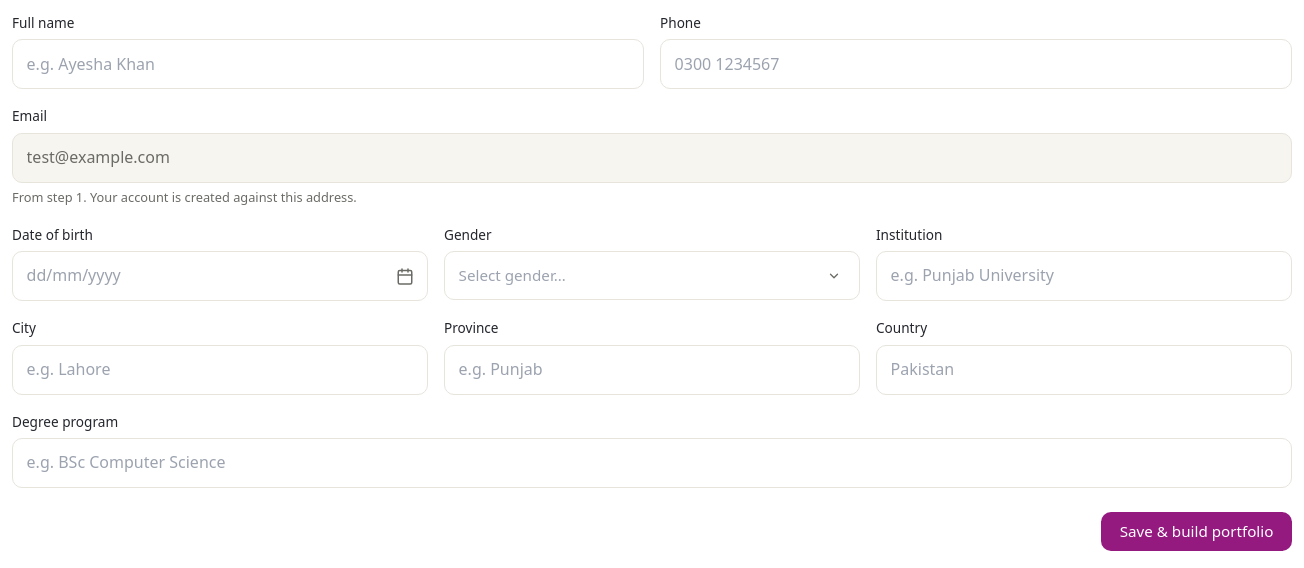
it: RegisterForm › formats 0-prefixed and +-prefixed phone numbers automatically as the user types
Type "03001234567" into the field labelled "Phone" at (976, 64), box [660,39,1292,89]
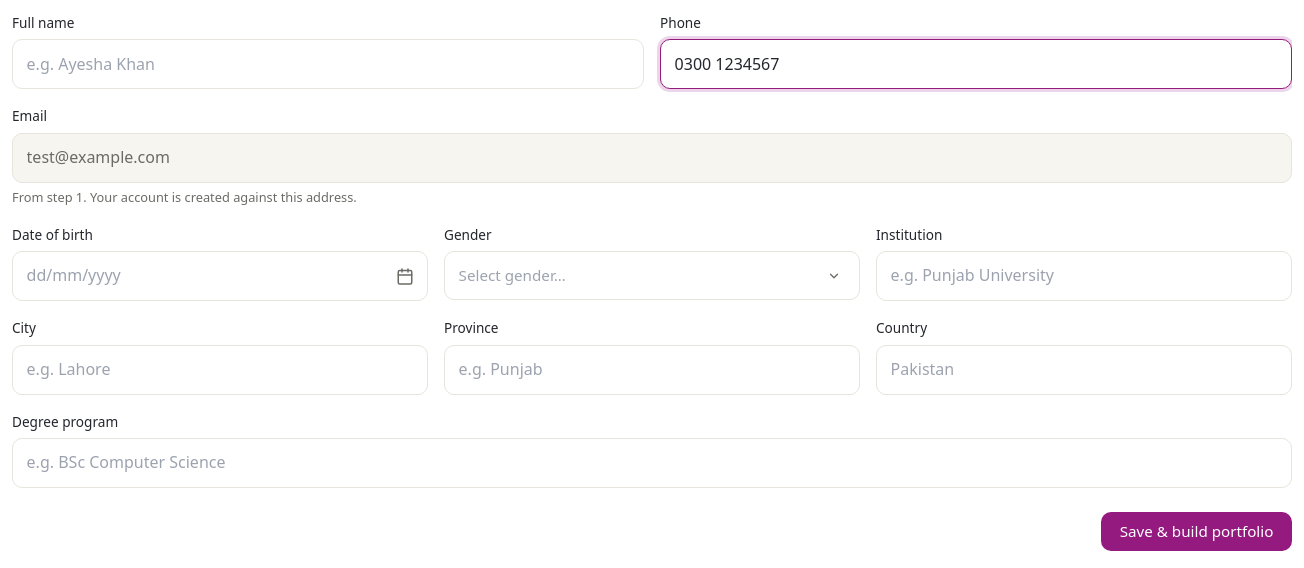
expect the field labelled "Phone" holds "0300 1234567": met
Type "+923001234567" into the field labelled "Phone" at (976, 64), box [660,39,1292,89]
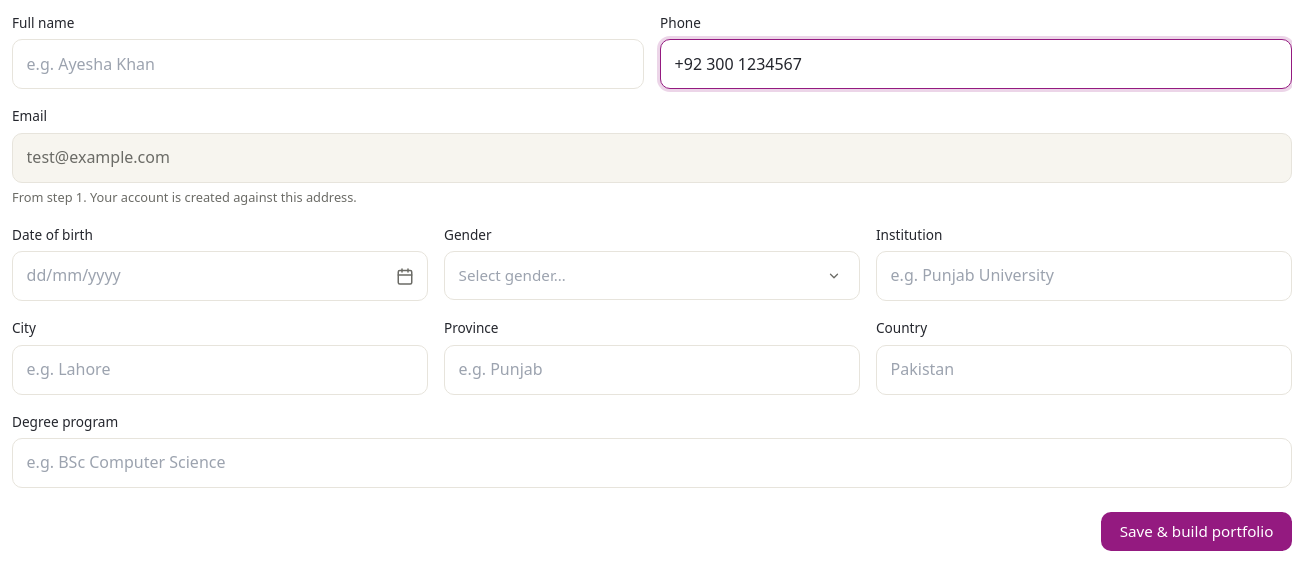
expect the field labelled "Phone" holds "+92 300 1234567": met, box [660,39,1292,89]
